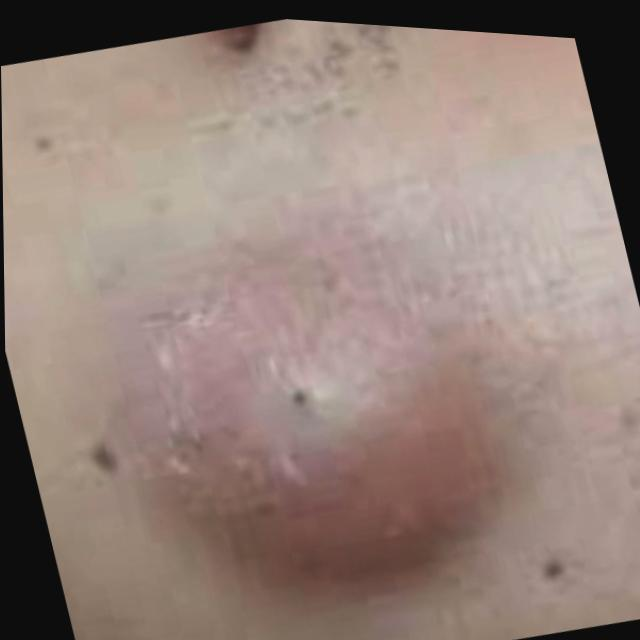nodule: (74, 205, 539, 617)
